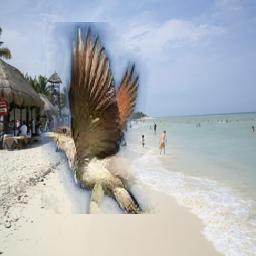Cuckoo: (42, 22, 203, 214)
